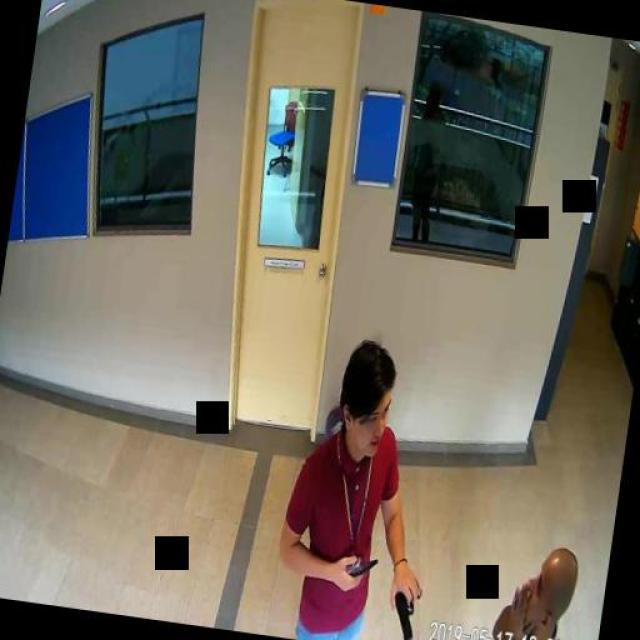gun: (384, 571, 421, 640)
